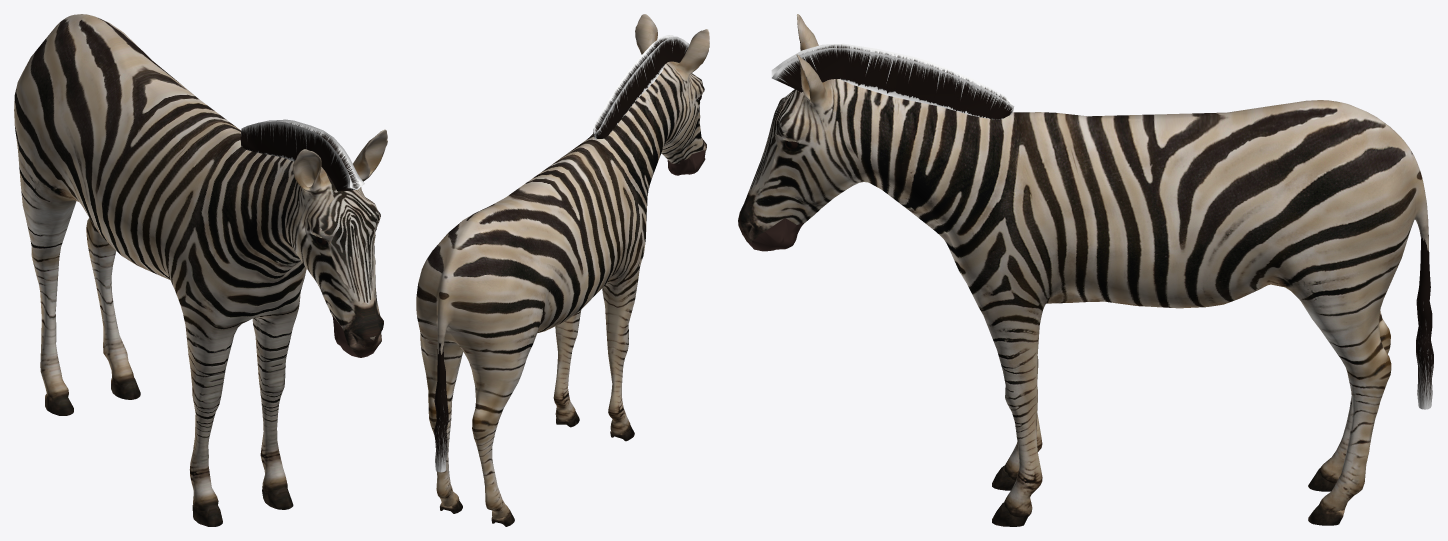
File: plains-zebra.glb
The picture shows the model from 3 angles, left to right: view 1: azimuth 30°, elevation 25°; view 2: azimuth 150°, elevation 25°; view 3: azimuth 270°, elevation 25°; orthographic projection. The views are drawn at different scales.
Parts seen in each view (by area): view 1: 3DSMeshMatrix (×2); view 2: 3DSMeshMatrix (×3); view 3: 3DSMeshMatrix (×3).
Boxes of the visible parts, x1,y1,x2,y2 form: 3DSMeshMatrix (×2): [14, 14, 387, 526]; 3DSMeshMatrix (×3): [416, 14, 709, 526]; 3DSMeshMatrix (×3): [738, 14, 1433, 526].
Bounding box in the file's own units: 1527 × 4806 × 6465.
Materials: 4 (4 with a texture image).
